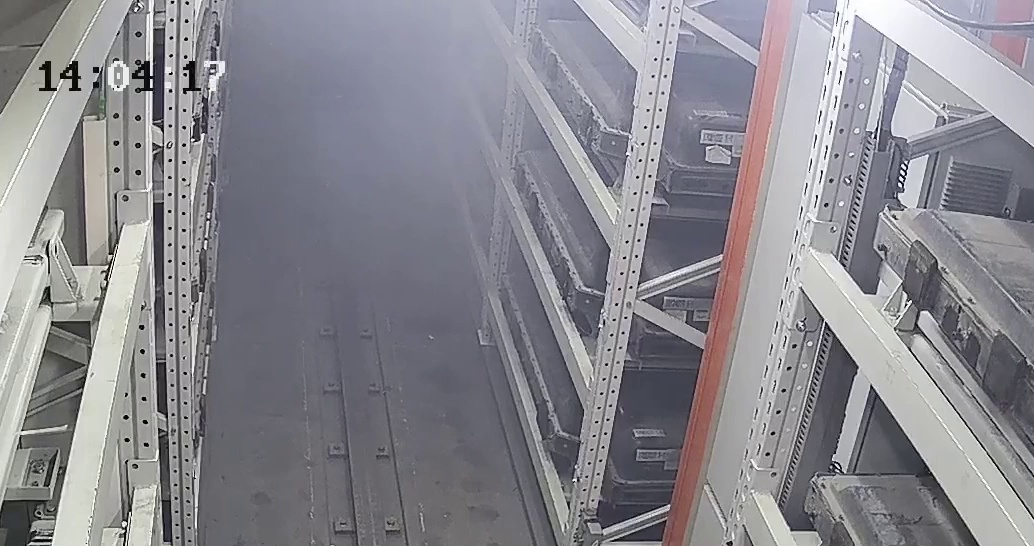smoke: (303, 9, 484, 253)
